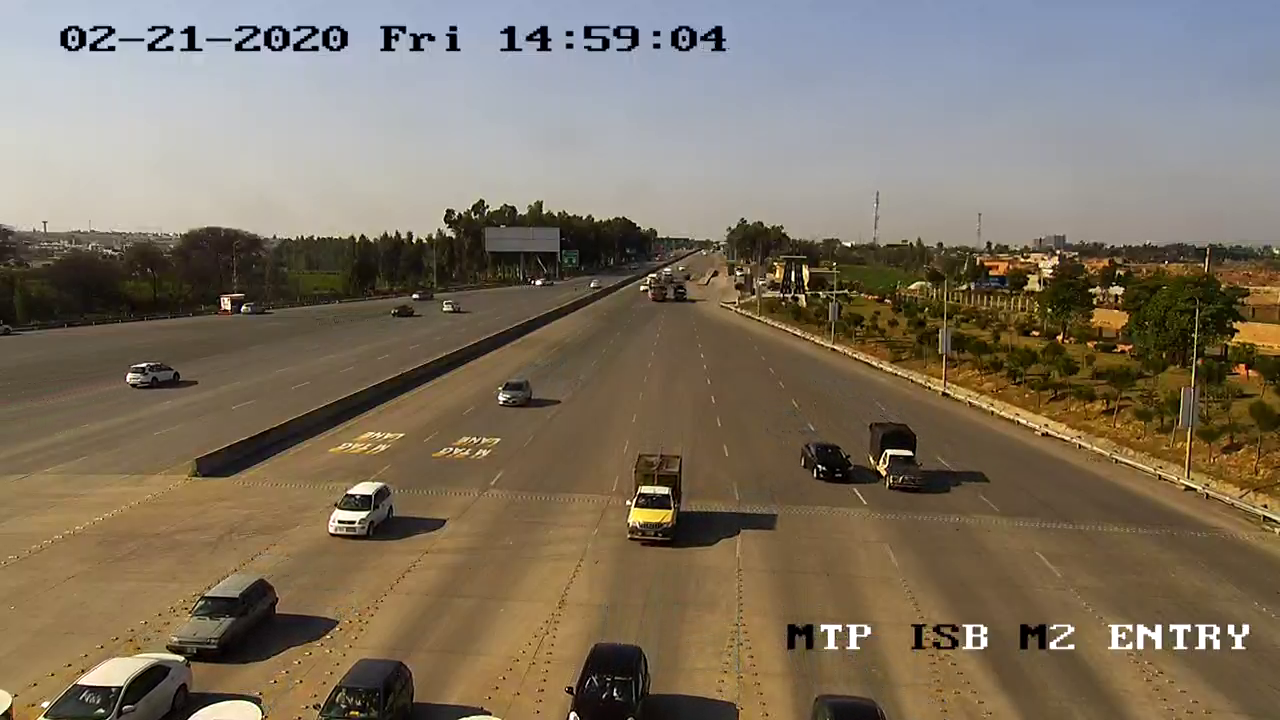f1: (155, 560, 282, 661), (555, 634, 674, 717), (315, 477, 406, 543), (792, 424, 860, 492), (486, 375, 544, 412)
f2: (606, 438, 697, 551), (854, 414, 931, 504)
